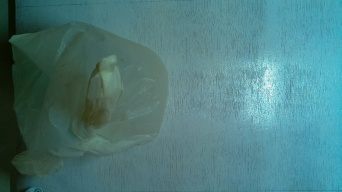f: (13, 22, 173, 166)
